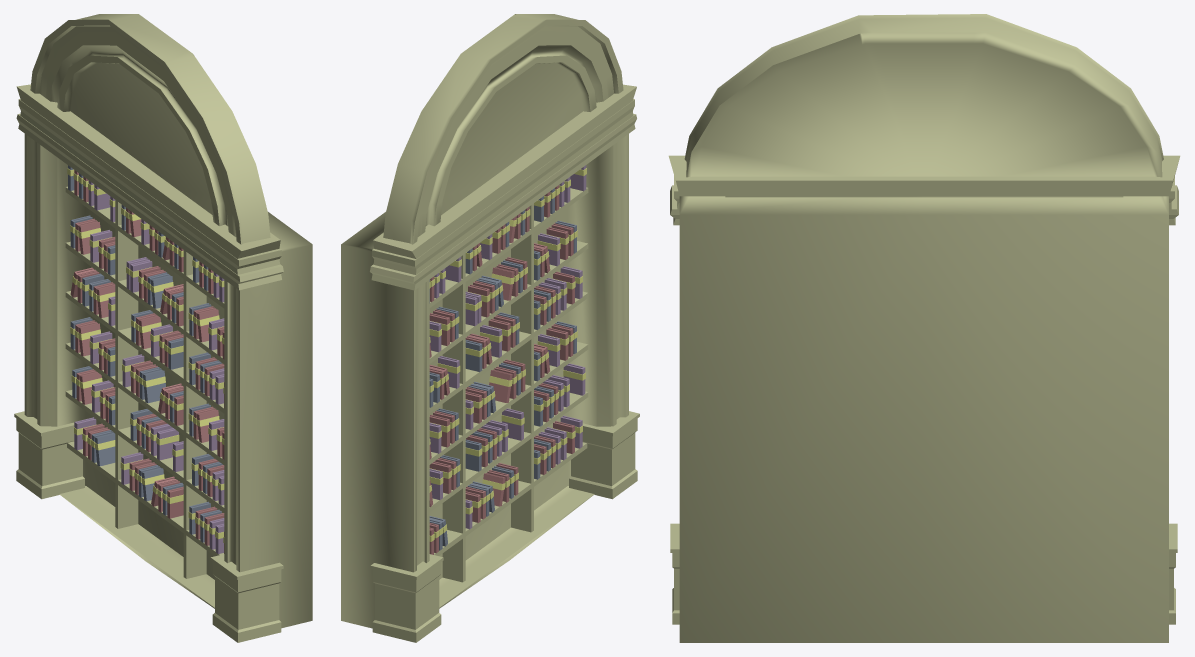
File: obj_Bookcase.fbx
The picture shows the model from 3 angles, left to right: view 1: azimuth 30°, elevation 25°; view 2: azimuth 150°, elevation 25°; view 3: azimuth 270°, elevation 25°; orthographic projection. The views are drawn at different scales.
Visible parts, largest first — view 1: Bookcase, Books; view 2: Bookcase, Books; view 3: Bookcase.
Boxes of the visible parts, left/top/right/bottom form: Bookcase: left=14, top=14, right=312, bottom=642; Books: left=67, top=165, right=224, bottom=553; Bookcase: left=341, top=14, right=639, bottom=642; Books: left=429, top=165, right=586, bottom=554; Bookcase: left=668, top=14, right=1180, bottom=642.
Size of the model in its own units: 20.75 by 132 by 102.
